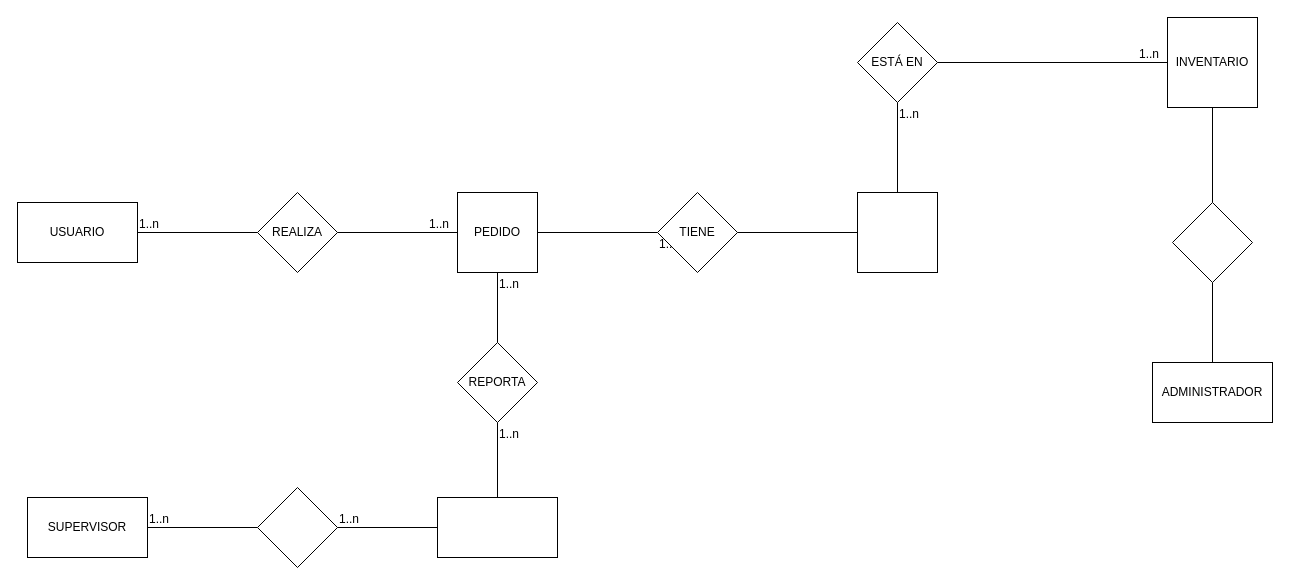
Image size: 1290x585. Some labels were removed from this diagram. Here are the shapes that lost their labels. From the top down, the centre of each, then its label:
the point at 897,232: PRODUCTOS
the point at 1212,242: ADMINISTRA
the point at 297,527: GENERA
the point at 497,527: INFORME
